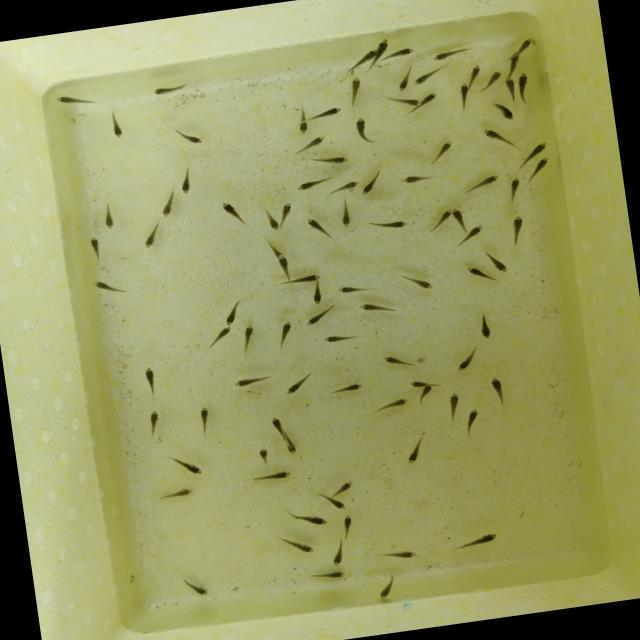fingerling: (451, 529, 504, 556), (397, 266, 436, 297), (478, 124, 520, 151), (270, 317, 298, 355), (284, 367, 318, 398), (54, 90, 100, 112), (365, 213, 409, 236), (167, 453, 204, 480), (459, 173, 502, 196), (288, 508, 330, 531), (302, 304, 341, 328), (140, 405, 165, 442), (369, 396, 412, 417), (359, 296, 400, 318), (170, 125, 206, 150), (524, 156, 556, 184), (380, 544, 418, 567), (280, 536, 316, 560), (291, 174, 334, 194), (319, 330, 362, 350), (397, 168, 436, 190), (473, 309, 498, 342), (425, 208, 456, 234), (458, 224, 490, 249), (313, 152, 352, 172), (381, 351, 416, 373), (306, 216, 334, 243), (373, 574, 402, 600), (220, 198, 245, 228), (486, 374, 509, 406), (321, 494, 354, 516), (180, 575, 209, 600), (392, 64, 416, 94), (152, 81, 194, 98), (158, 188, 180, 220), (194, 404, 216, 436), (332, 281, 370, 299), (353, 114, 375, 145), (508, 214, 528, 248), (90, 276, 124, 296), (430, 140, 458, 164), (432, 47, 474, 63), (329, 380, 366, 398), (514, 72, 534, 105), (311, 103, 344, 123), (359, 174, 385, 199), (208, 326, 235, 350), (324, 180, 362, 197), (402, 438, 425, 466), (296, 134, 328, 154), (326, 478, 358, 498), (335, 200, 355, 232), (504, 175, 526, 204), (252, 469, 294, 484), (232, 374, 274, 389), (445, 390, 464, 423), (143, 366, 162, 399), (454, 348, 480, 372), (489, 99, 516, 122), (142, 222, 164, 250), (348, 76, 367, 108), (311, 570, 349, 586), (464, 406, 486, 433), (382, 46, 418, 62), (276, 202, 296, 230), (292, 103, 310, 134), (482, 69, 506, 92), (177, 167, 196, 196), (413, 384, 438, 406), (276, 256, 293, 288), (240, 322, 258, 352), (87, 234, 106, 262), (464, 62, 486, 86), (412, 69, 443, 86), (262, 208, 282, 234), (280, 432, 300, 458), (159, 486, 196, 500), (457, 80, 473, 112), (462, 263, 492, 280), (489, 254, 512, 276), (265, 238, 286, 262), (108, 112, 126, 140), (310, 280, 328, 308), (222, 304, 242, 328), (503, 75, 520, 103), (328, 542, 346, 568), (338, 512, 356, 538), (505, 50, 523, 76), (527, 138, 550, 158), (101, 204, 117, 232), (452, 205, 468, 229), (266, 413, 284, 434), (256, 446, 273, 466), (297, 272, 323, 284), (518, 36, 536, 51), (420, 92, 440, 105), (403, 95, 422, 108), (363, 47, 380, 61), (375, 38, 392, 52), (408, 378, 426, 389)
